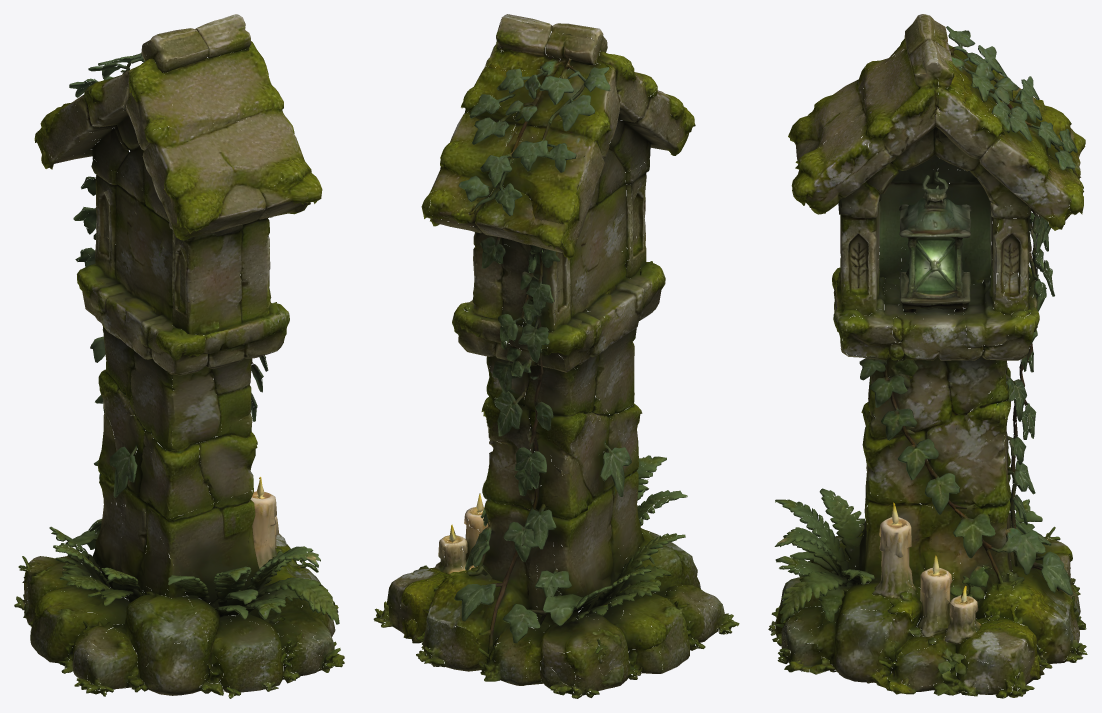
The model's file is lantern-shrine-tripo.glb.
3 renders of one model, left to right at view 1: azimuth 30°, elevation 25°; view 2: azimuth 150°, elevation 25°; view 3: azimuth 270°, elevation 25°, orthographic.
Parts seen in each view (by area): view 1: tripo_node_6882be8b-14d6-40ab-9f33-aee44e4be2e1; view 2: tripo_node_6882be8b-14d6-40ab-9f33-aee44e4be2e1; view 3: tripo_node_6882be8b-14d6-40ab-9f33-aee44e4be2e1.
Boxes of the visible parts, left/top/right/bottom form: tripo_node_6882be8b-14d6-40ab-9f33-aee44e4be2e1: left=14, top=14, right=344, bottom=698; tripo_node_6882be8b-14d6-40ab-9f33-aee44e4be2e1: left=373, top=14, right=739, bottom=698; tripo_node_6882be8b-14d6-40ab-9f33-aee44e4be2e1: left=768, top=14, right=1087, bottom=698.
Size of the model in its own units: 0.4951 by 1 by 0.4815.
Materials: 1 (1 with a texture image).
